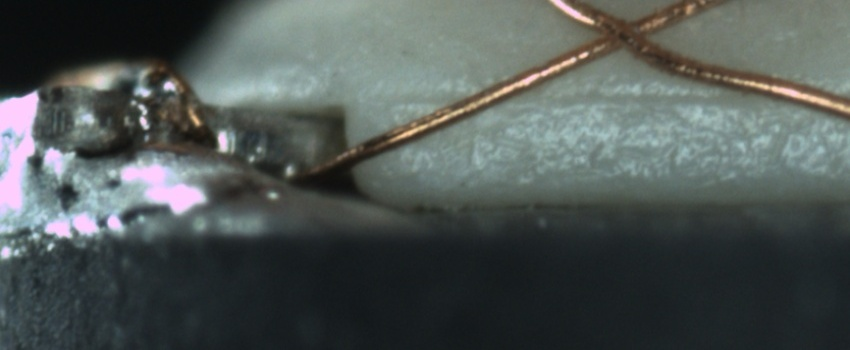CL: (576, 2, 674, 62)
DL: (399, 69, 843, 133)
TE: (153, 56, 212, 147)
